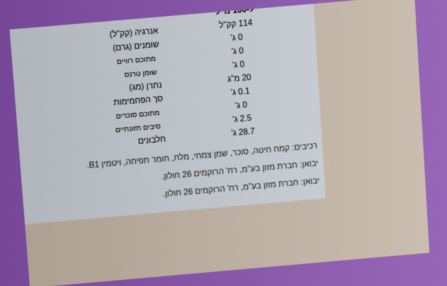carbs: (229, 85, 251, 98)
energy: (217, 17, 254, 31)
fat: (229, 31, 244, 44)
protein: (230, 125, 256, 139)
